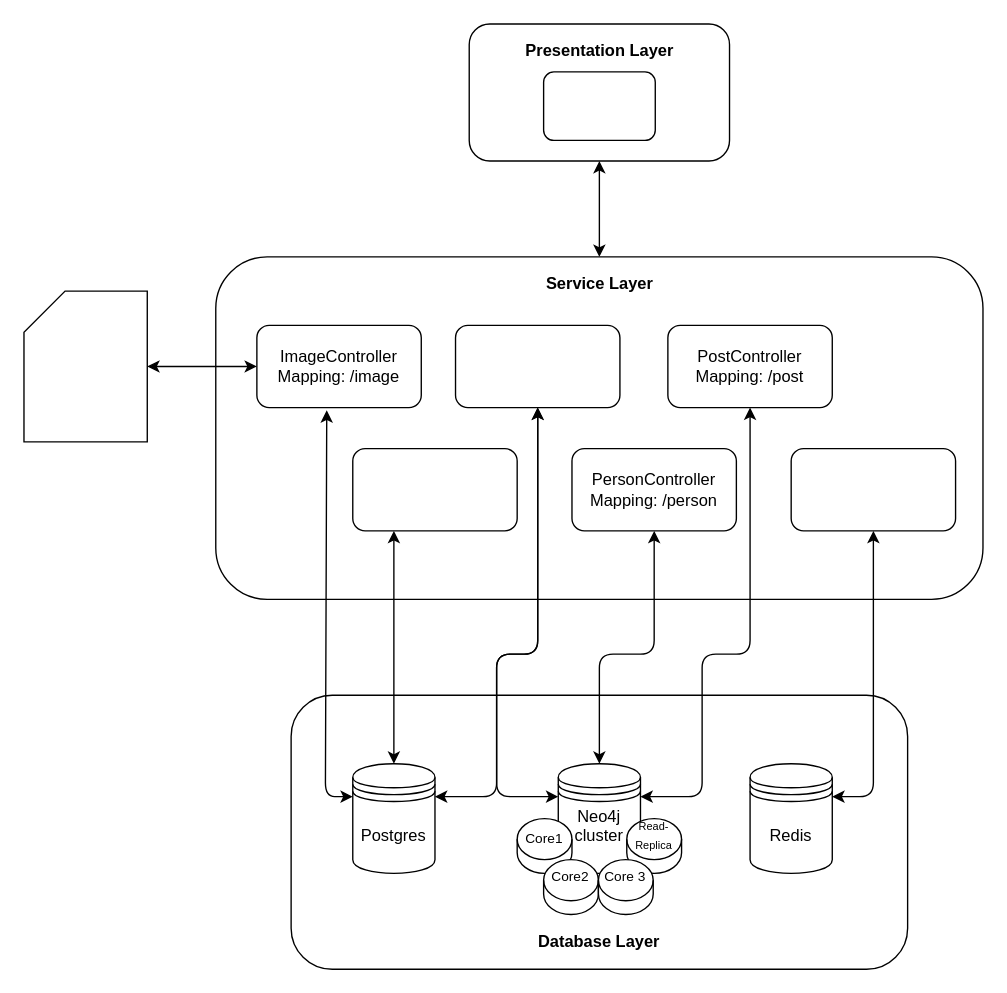
This 1007x993 diagram has some shape labels left out. Here are the shapes that lost their labels. From the top down, the centre of each, then its label:
(x=598, y=105): Frontend
(x=85, y=366): Folder: images Local Storage
(x=537, y=366): LoginController Mapping: /login
(x=434, y=489): AccountController Mapping: /profile
(x=873, y=489): ChatController Mapping: /chat
